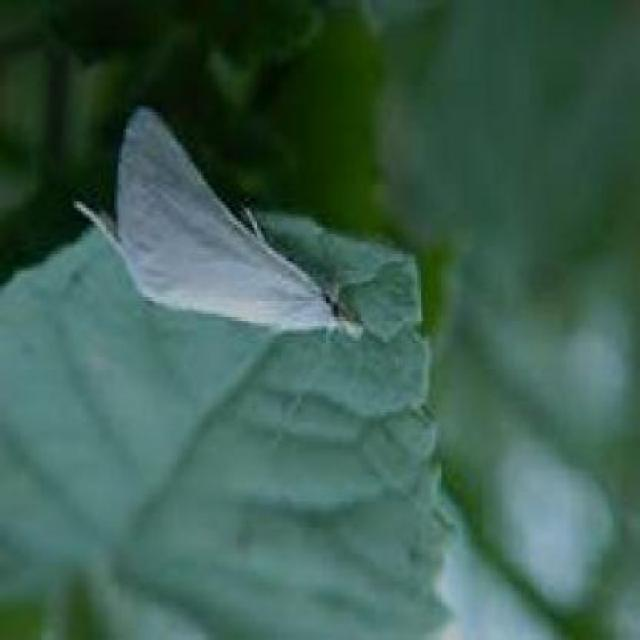stem-borer: (74, 103, 369, 346)
